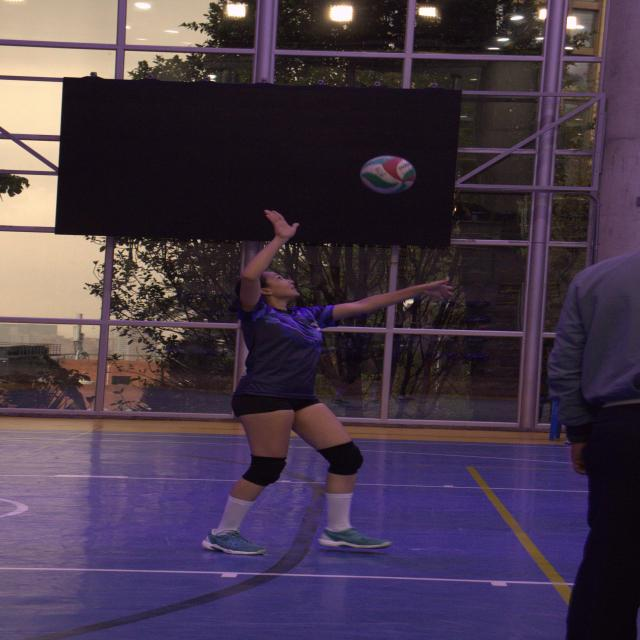volleyball: (356, 155, 417, 193)
